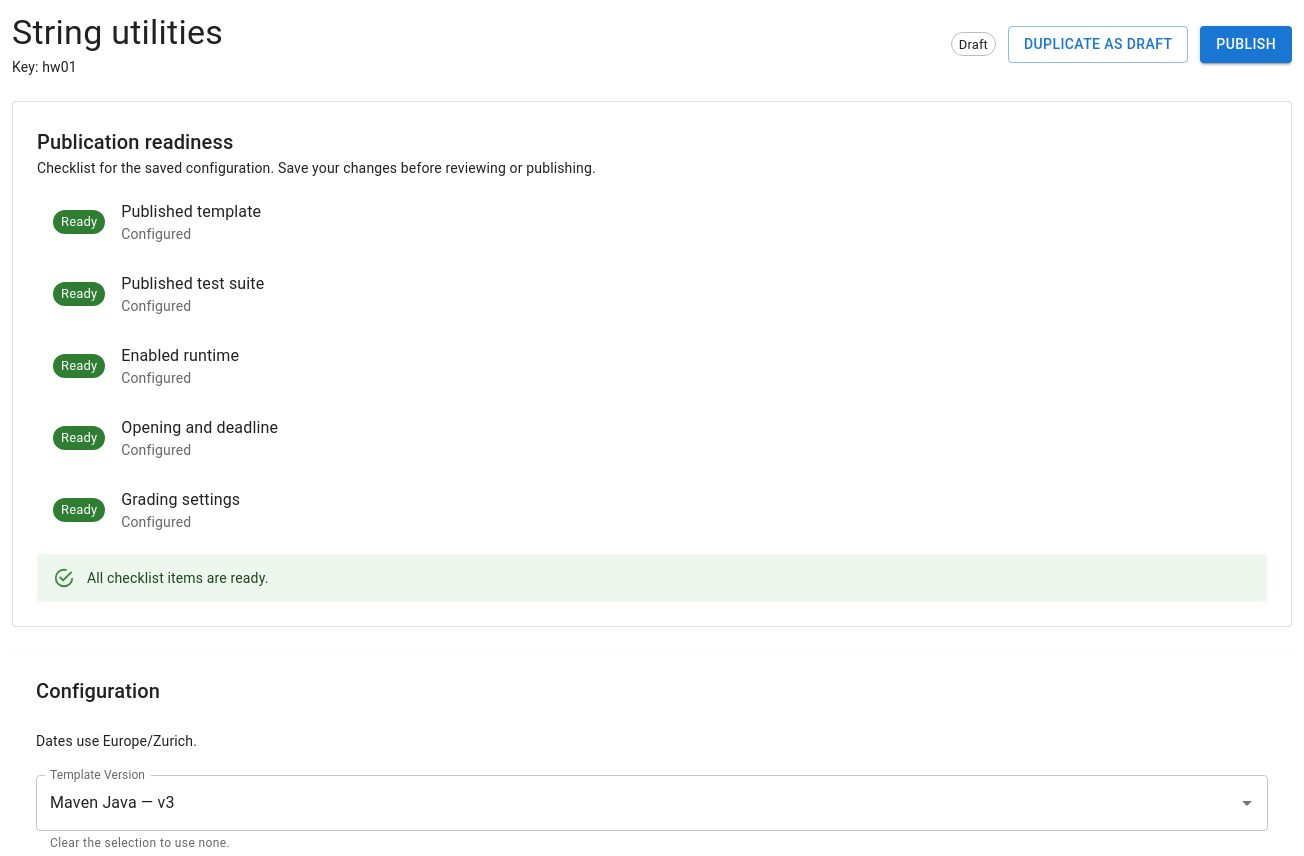
publishes a draft and reflects the published status in the form
Step 1. Click the button "Publish" → (1246, 44), box [1200,26,1292,63]
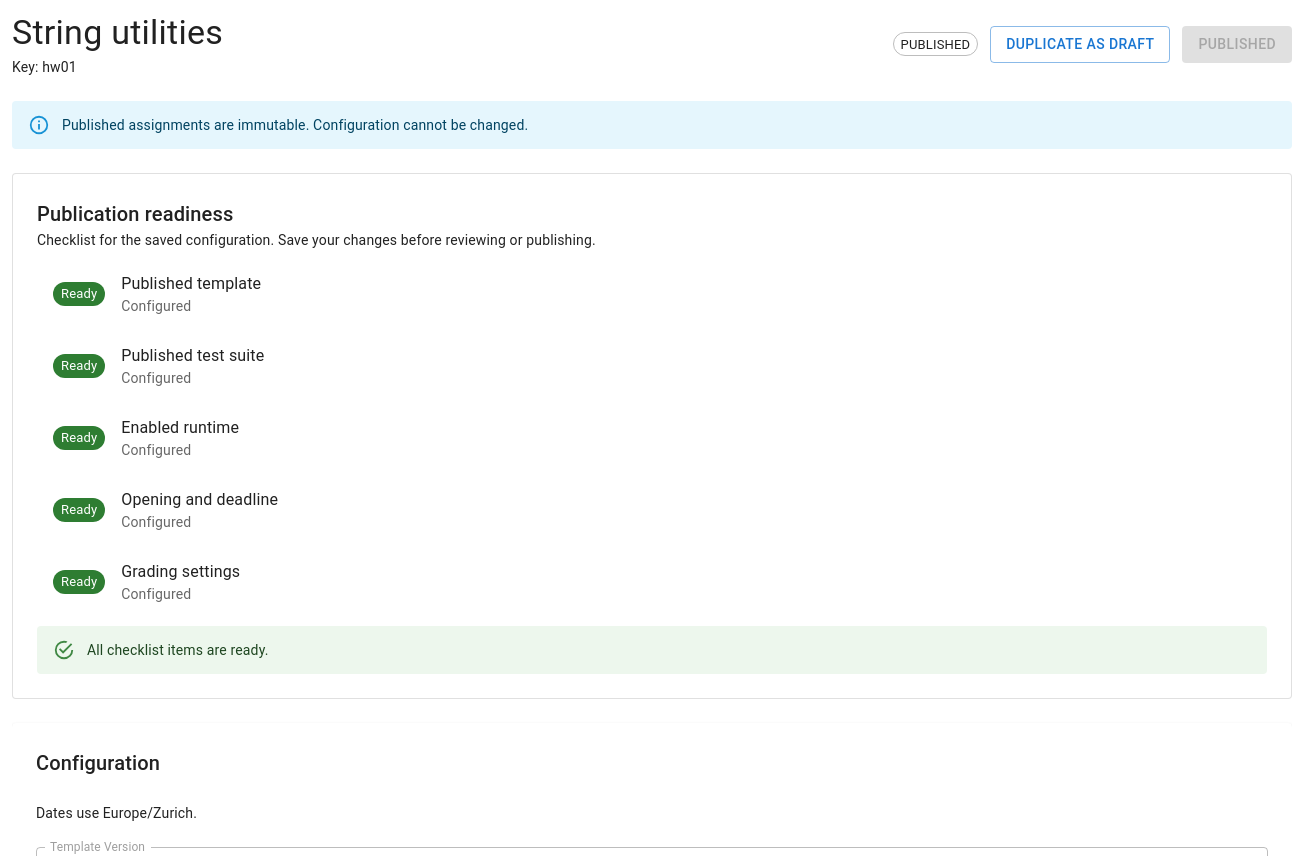
Check: the text "Published assignments are immutable. Configuration cannot be changed." is shown, box [62,117,528,133]
Check: the button "Published" is shown, box [1182,26,1292,63]
